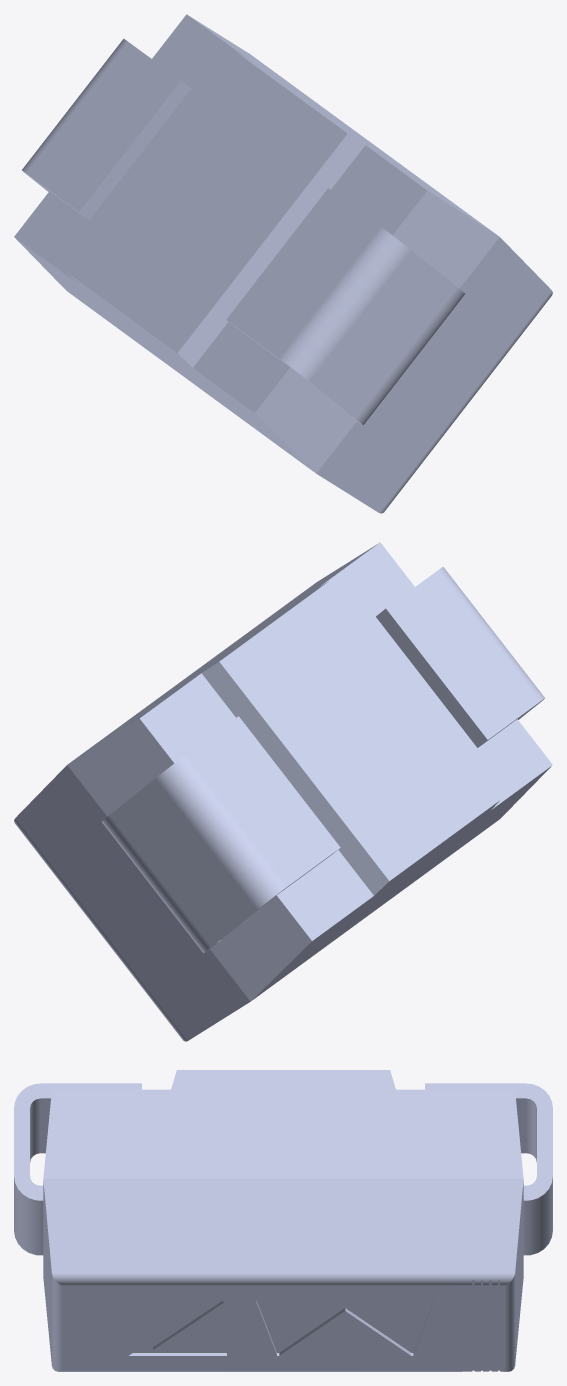
The model's file is body108_visual.obj.
3 renders of one model, top to bottom at view 1: azimuth 30°, elevation 25°; view 2: azimuth 150°, elevation 25°; view 3: azimuth 270°, elevation 25°, orthographic. The views are drawn at different scales.
Visible parts, largest first — view 1: Body108; view 2: Body108; view 3: Body108.
Boxes of the visible parts, x1,y1,x2,y2 form: Body108: (14,14,552,513); Body108: (14,542,552,1041); Body108: (14,1070,552,1371).
Bounding box in the file's own units: 0.3242 × 0.3242 × 0.505.
